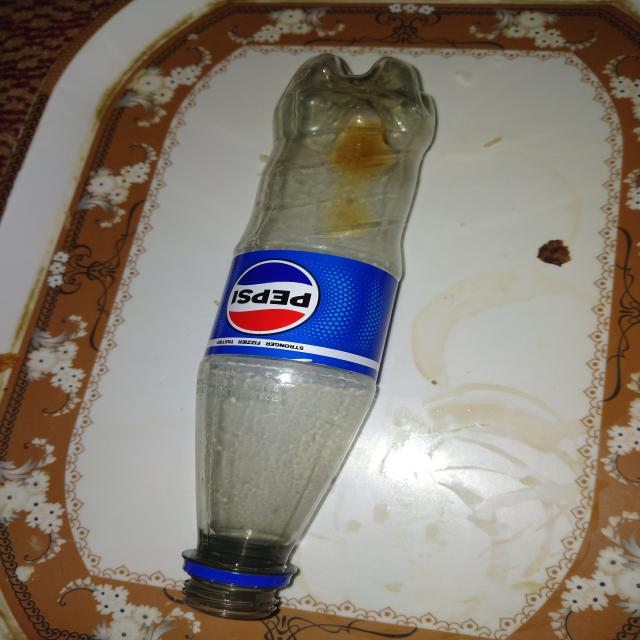general: (174, 52, 439, 617)
